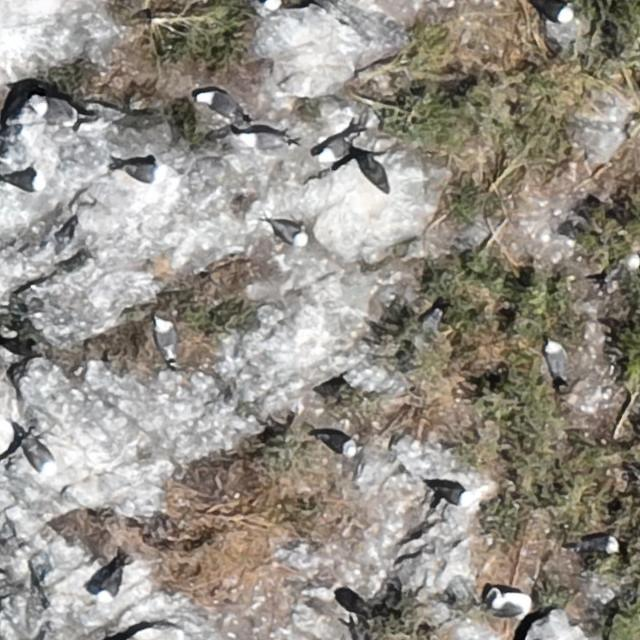umineko: (31, 99, 101, 128), (195, 88, 248, 122), (22, 431, 56, 476), (425, 477, 472, 507), (125, 160, 166, 182), (5, 168, 45, 190), (321, 133, 351, 160), (155, 319, 176, 357), (494, 592, 529, 614), (538, 1, 570, 23), (322, 433, 354, 454), (578, 536, 616, 553), (276, 223, 306, 244), (245, 131, 283, 147), (546, 341, 564, 374), (98, 574, 119, 600), (620, 242, 640, 268), (264, 1, 306, 10)
